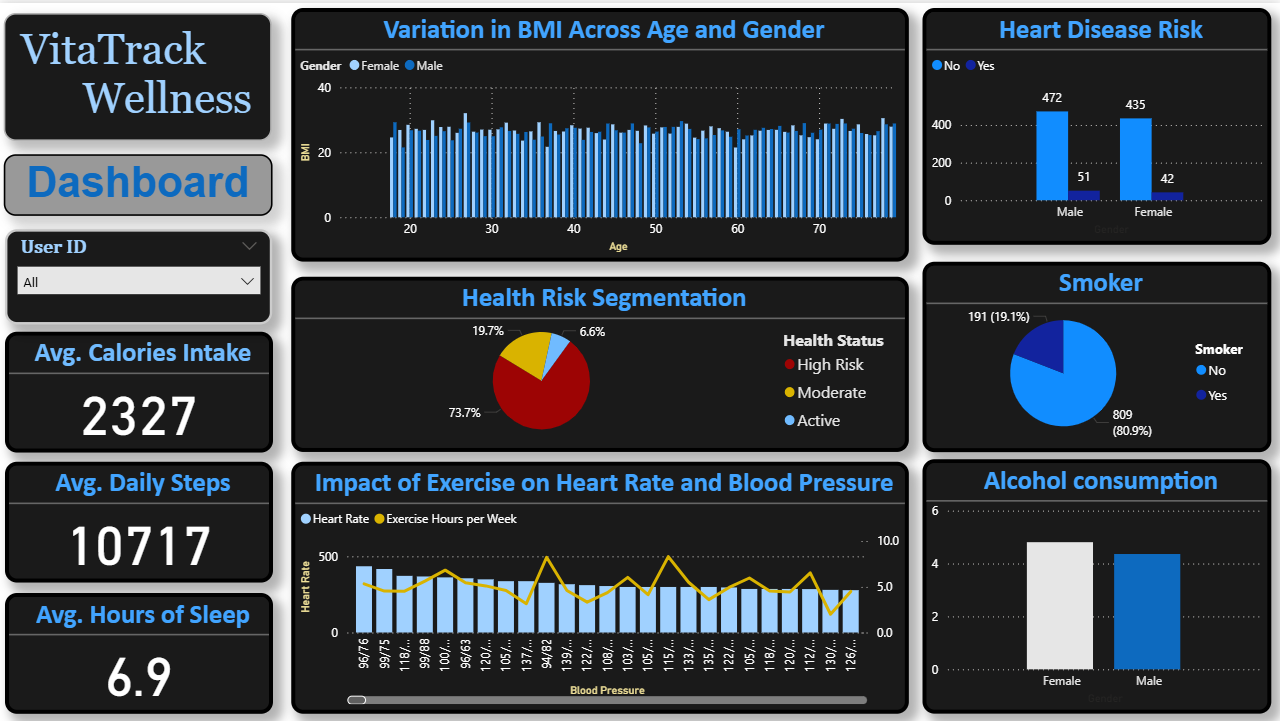

The dashboard page shown, as its layout file describes it:
{"tool":"powerbi","page":{"name":"Page 1","canvas":[1280,720],"ordinal":0},"visuals":[{"type":"card","title":"Avg. Calories Intake","fields":{"Values":["Avg(health_activity_data.Calories_Intake)"]},"box":[4.8,328.2,267.8,120.6],"z":0},{"type":"card","title":"Avg. Daily Steps","fields":{"Values":["Avg(health_activity_data.Daily_Steps)"]},"box":[4.8,458.4,267.8,120.6],"z":1000},{"type":"card","title":"Avg. Hours of Sleep","fields":{"Values":["Avg(health_activity_data.Hours_of_Sleep)"]},"box":[4.8,589.9,267.8,120.6],"z":2000},{"type":"clusteredColumnChart","title":"Variation in BMI Across Age and Gender","fields":{"Category":["health_activity_data.Age"],"Y":["Avg(health_activity_data.BMI)"],"Series":["health_activity_data.Gender"]},"box":[290.8,4.8,608,253.4],"z":4000},{"type":"slicer","fields":{"Values":["health_activity_data.ID"]},"box":[5,226.2,267.5,95],"z":5000},{"type":"lineStackedColumnComboChart","title":"Impact of Exercise on Heart Rate and Blood Pressure","fields":{"Category":["health_activity_data.Blood_Pressure"],"Y2":["Avg(health_activity_data.Exercise_Hours_per_Week)"],"Y":["Sum(health_activity_data.Heart_Rate)"]},"box":[290.8,458.4,617.7,252.1],"z":6000},{"type":"textbox","box":[4,10,267.8,128],"z":7000},{"type":"textbox","box":[4,151,269,61.5],"z":8000},{"type":"pieChart","title":"Smoker","fields":{"Y":["CountNonNull(health_activity_data.Smoker)"],"Category":["health_activity_data.Smoker"]},"box":[922.9,250.9,348.7,197.9],"z":9000},{"type":"columnChart","title":"Alcohol consumption","fields":{"Category":["health_activity_data.Gender"],"Y":["Avg(health_activity_data.Alcohol_Consumption_per_Week)"]},"box":[922.9,456,348.7,254.6],"z":9001},{"type":"clusteredColumnChart","title":"Heart Disease Risk","fields":{"Y":["CountNonNull(health_activity_data.Heart_Disease)"],"Category":["health_activity_data.Gender"],"Series":["health_activity_data.Heart_Disease"]},"box":[922.9,4.8,348.7,236.5],"z":9002},{"type":"pieChart","title":"Health Risk Segmentation","fields":{"Category":["health_activity_data.Lifestyle Segment"],"Y":["CountNonNull(health_activity_data.Lifestyle Segment)"]},"box":[290.8,273.9,617.7,174.9],"z":9003}]}

Visuals, with their boxes in screenshot pixels (x1, y1, x2, y2), scaled from the page's 1280x720 canvas onto the 1280x721 screenshot:
"Avg. Calories Intake" card: Rect(5, 329, 273, 449)
"Avg. Daily Steps" card: Rect(5, 459, 273, 580)
"Avg. Hours of Sleep" card: Rect(5, 591, 273, 711)
"Variation in BMI Across Age and Gender" clusteredColumnChart: Rect(291, 5, 899, 259)
slicer - health_activity_data.ID: Rect(5, 227, 272, 322)
"Impact of Exercise on Heart Rate and Blood Pressure" lineStackedColumnComboChart: Rect(291, 459, 908, 711)
textbox: Rect(4, 10, 272, 138)
textbox: Rect(4, 151, 273, 213)
"Smoker" pieChart: Rect(923, 251, 1272, 449)
"Alcohol consumption" columnChart: Rect(923, 457, 1272, 712)
"Heart Disease Risk" clusteredColumnChart: Rect(923, 5, 1272, 242)
"Health Risk Segmentation" pieChart: Rect(291, 274, 908, 449)
